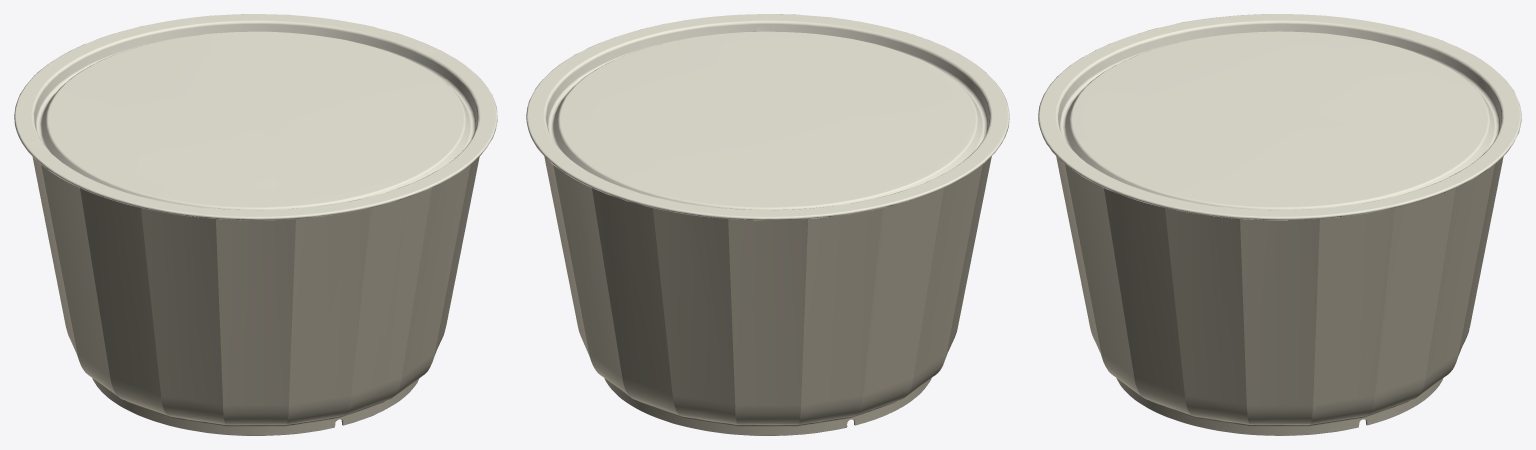
Rendered from lagaskar-mesa-de-centro-exterior-beige-90543762.glb.
3 renders of one model, left to right at view 1: azimuth 30°, elevation 25°; view 2: azimuth 150°, elevation 25°; view 3: azimuth 270°, elevation 25°, orthographic.
Parts seen in each view (by area): view 1: model; view 2: model; view 3: model.
Boxes of the visible parts, x1=… form: model: x1=14, y1=14, x2=497, y2=435; model: x1=526, y1=14, x2=1009, y2=435; model: x1=1038, y1=14, x2=1521, y2=435.
Bounding box in the file's own units: 0.74 × 0.4233 × 0.74.
Materials: 1 (1 with a texture image).
